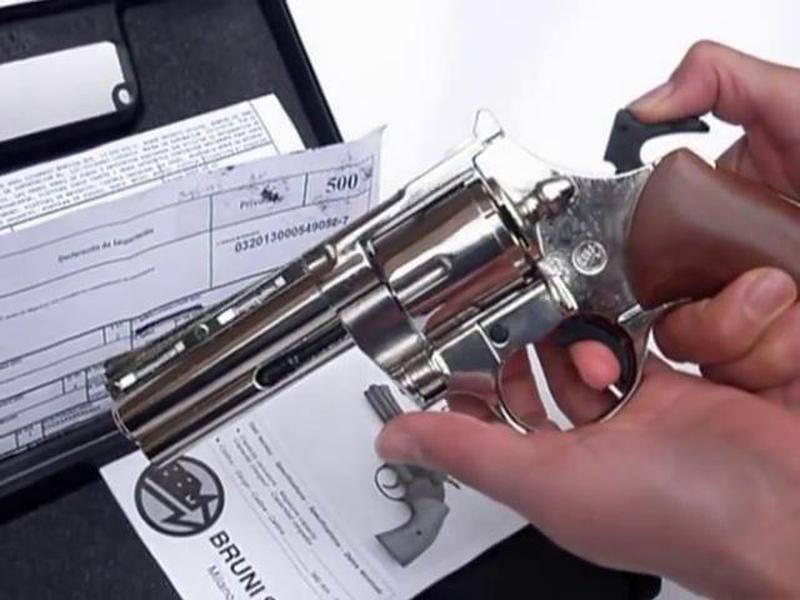Revolver: (98, 104, 717, 472)
